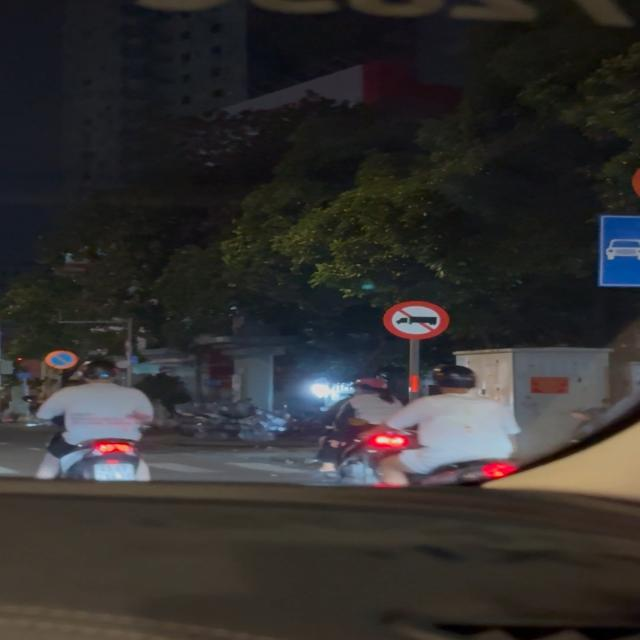Bien bao cam do xe: (42, 350, 82, 372)
Bien bao cam xe so-mi ro-mooc: (378, 298, 454, 342)
